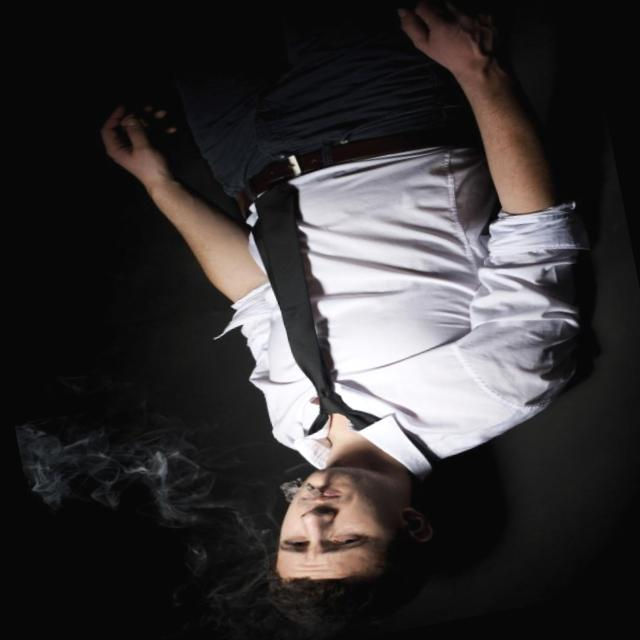smoke: (291, 463, 342, 511)
